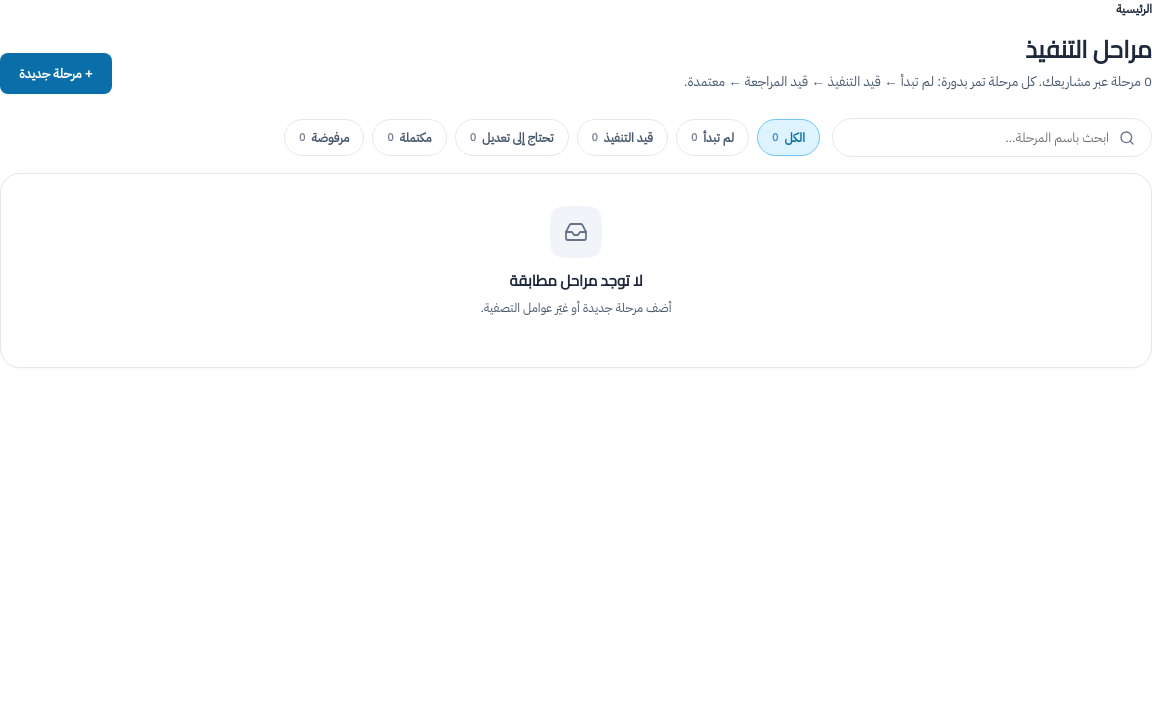
StagesPage project date boundary › sets the selected project start as the picker minimum and rejects an earlier date
Click the button "+ مرحلة جديدة" at (56, 74), box [0,53,112,94]
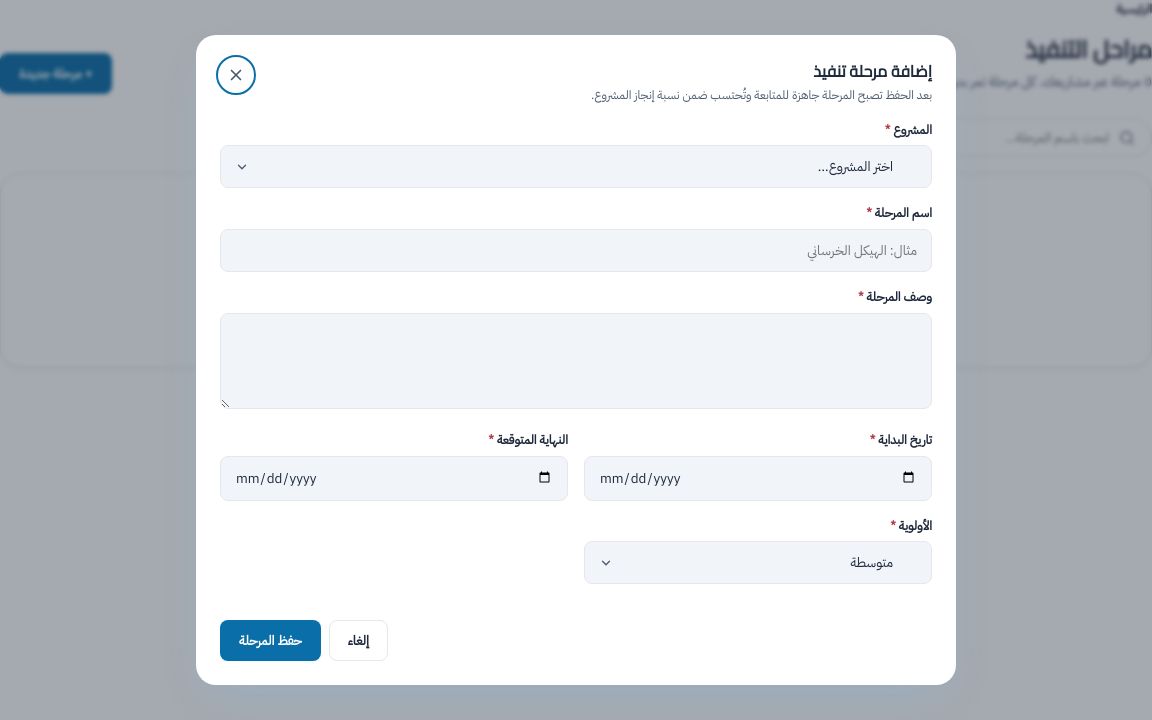
Select "Boundary project" in the dropdown labelled "المشروع*" at (576, 167), box [220,146,932,188]
Type "Stage 3" into the field labelled "اسم المرحلة*" at (576, 251), box [220,229,932,272]
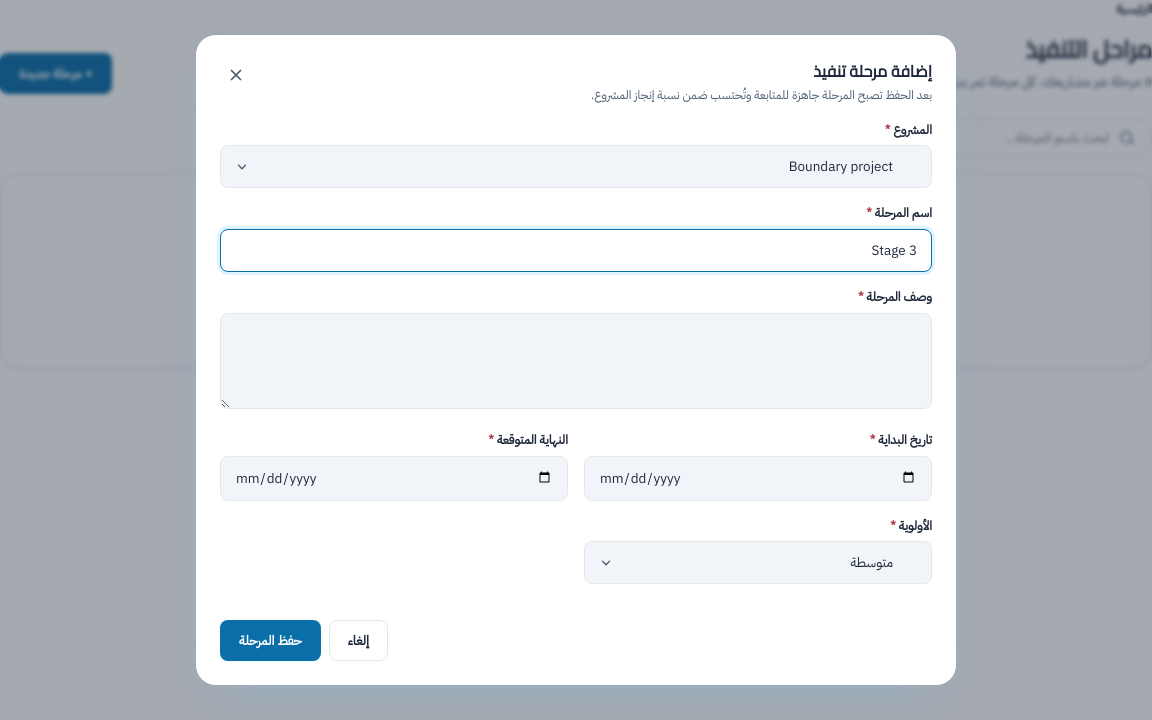
Type "Parallel construction stage" into the text box labelled "وصف المرحلة*" at (576, 361), box [220,313,932,409]
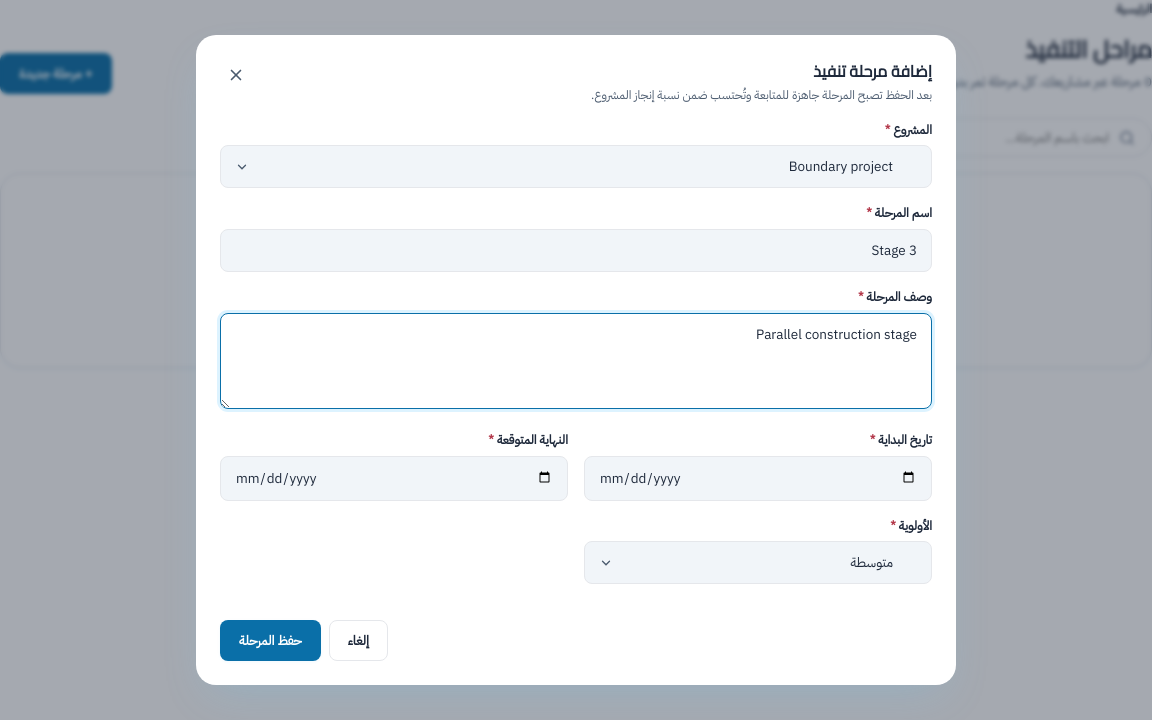
Type "2026-09-01" into the date field labelled "تاريخ البداية*" at (758, 478), box [584,456,932,501]
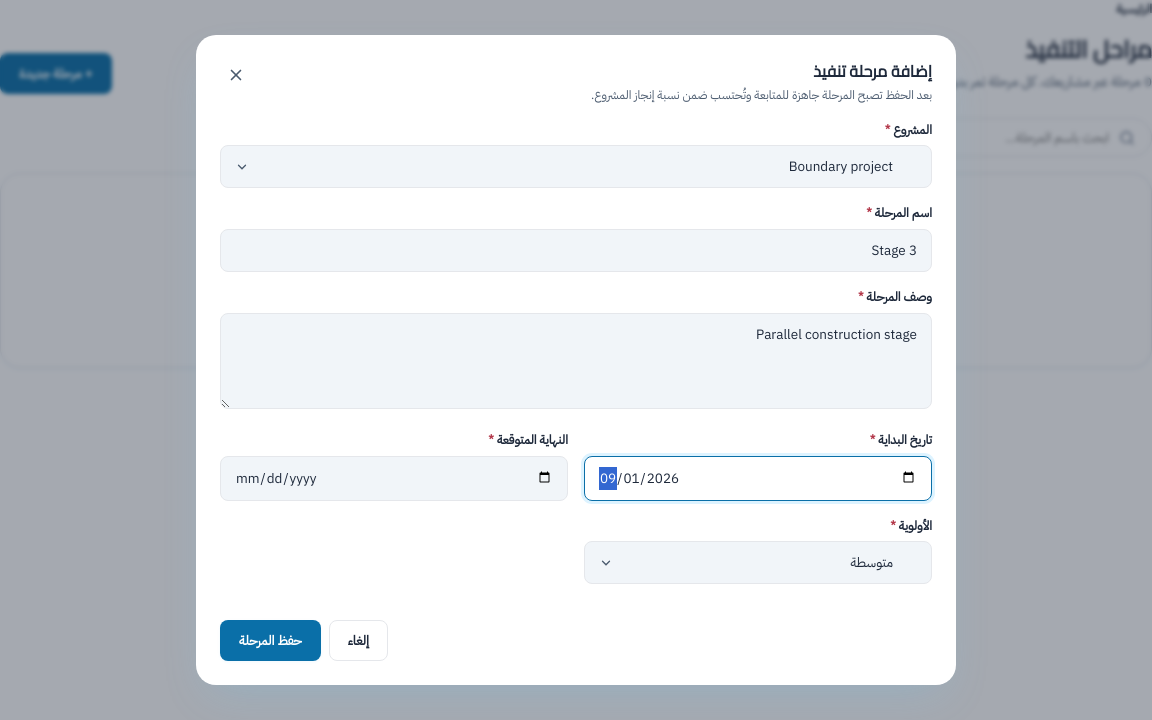
Type "2026-09-15" into the date field labelled "النهاية المتوقعة*" at (394, 478), box [220,456,568,501]
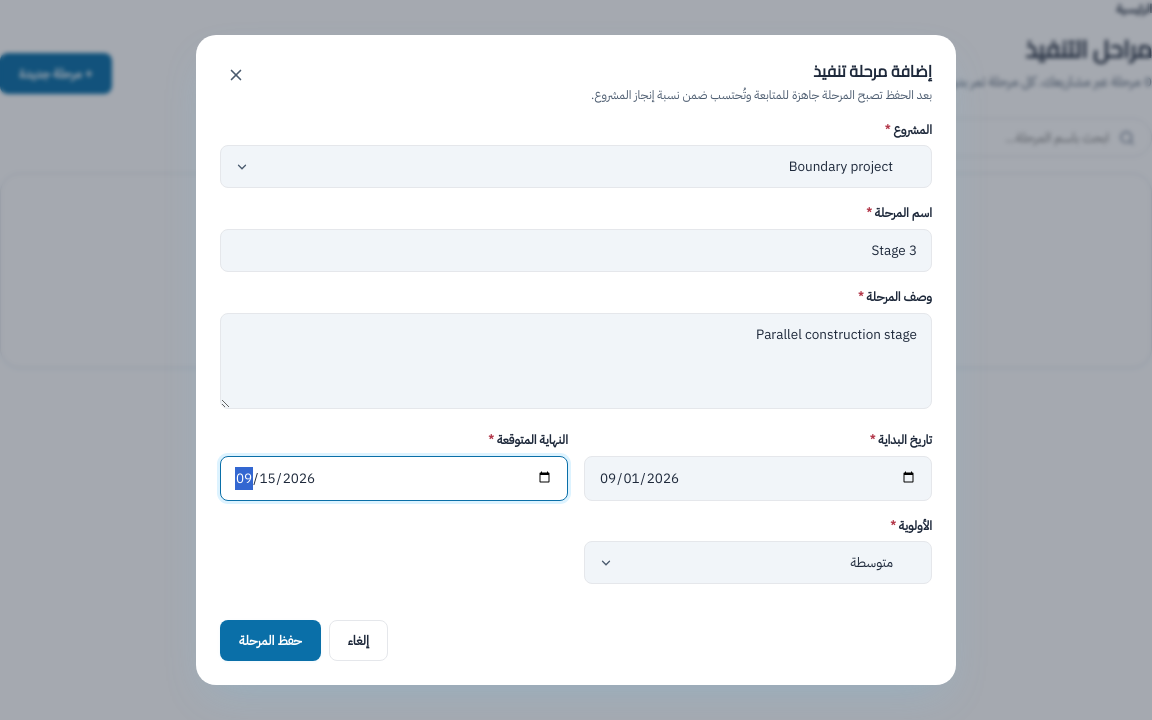
Expected: the date field labelled "تاريخ البداية*" has attribute min="2026-09-05", [584,456,932,501]
Click the button "حفظ المرحلة" at (270, 641), box [220,620,321,662]
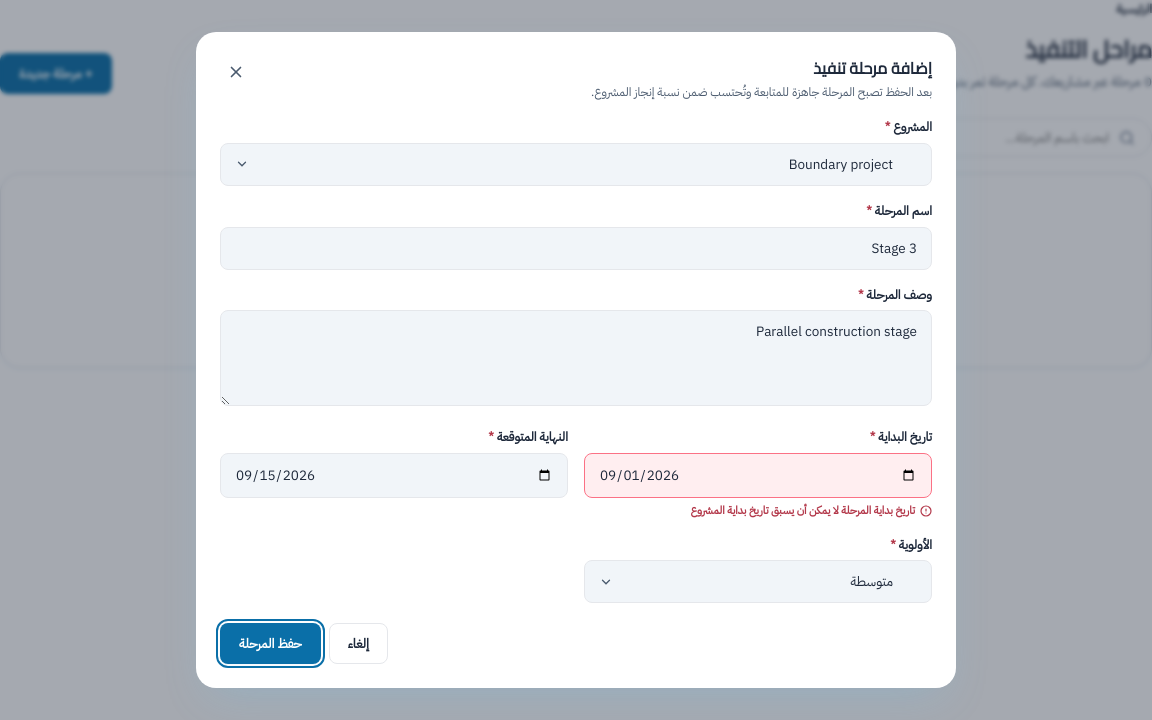
Expected: the text "تاريخ بداية المرحلة لا يمكن أن يسبق تاريخ بداية المشروع" is shown, [691,502,932,519]
